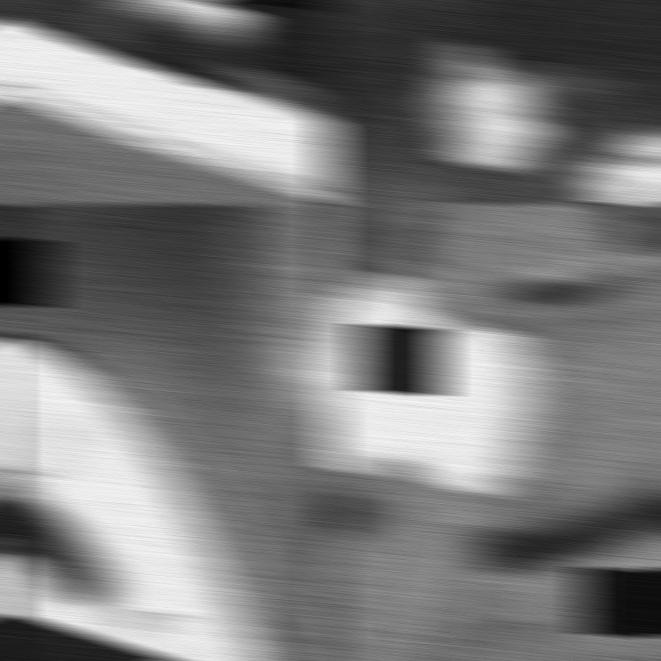Airbag: (320, 203, 661, 661), (0, 203, 339, 661), (320, 0, 661, 204), (0, 0, 339, 204)
